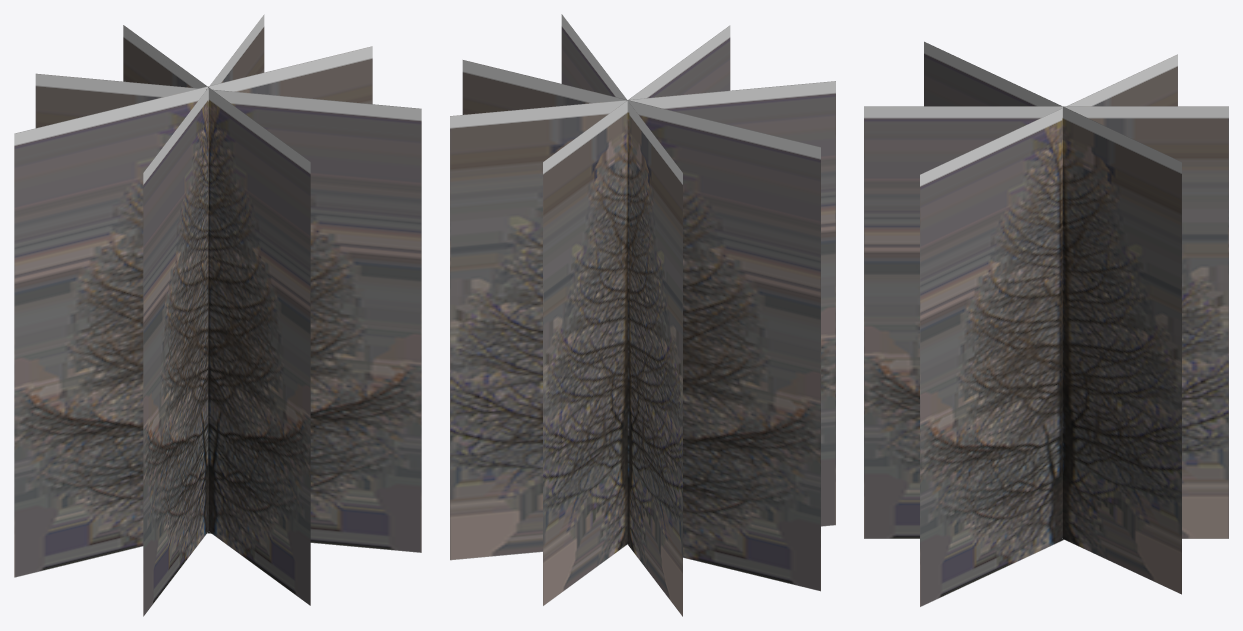
The model's file is tree_dead.fbx.
The picture shows the model from 3 angles, left to right: view 1: azimuth 30°, elevation 25°; view 2: azimuth 150°, elevation 25°; view 3: azimuth 270°, elevation 25°; orthographic projection. The views are drawn at different scales.
Parts seen in each view (by area): view 1: tree_dead; view 2: tree_dead; view 3: tree_dead.
Part boxes in pixels (bbox=[...]): tree_dead: bbox=[14, 14, 421, 616]; tree_dead: bbox=[450, 14, 835, 616]; tree_dead: bbox=[864, 41, 1228, 606].
Size of the model in its own units: 1152 by 1371 by 1042.
Materials: 1 (1 with a texture image).
